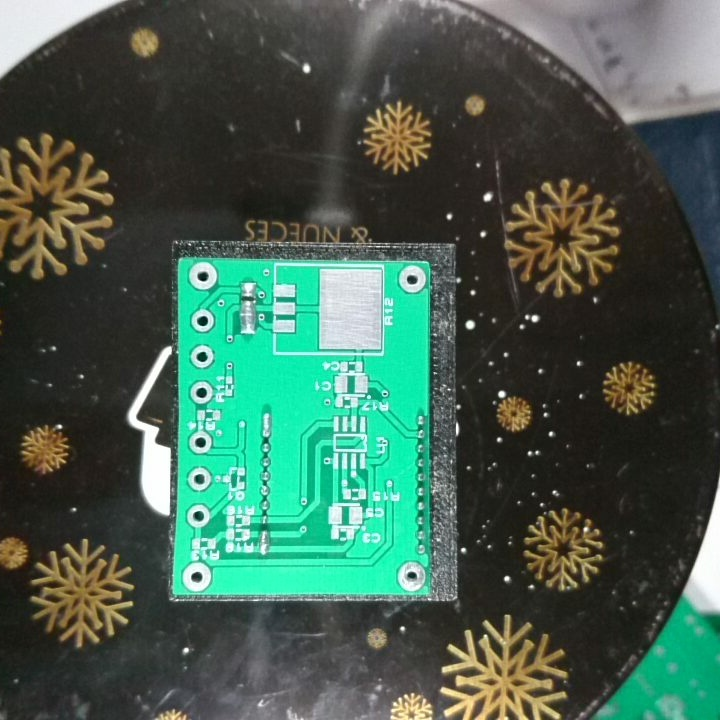F: (395, 560, 430, 594), (180, 560, 214, 592), (187, 260, 220, 292), (397, 264, 427, 295), (189, 307, 217, 335), (186, 378, 214, 405), (186, 465, 214, 492), (187, 343, 214, 369), (187, 430, 214, 455), (184, 503, 211, 528)
P: (236, 298, 257, 336), (259, 409, 274, 438), (257, 528, 272, 556)
